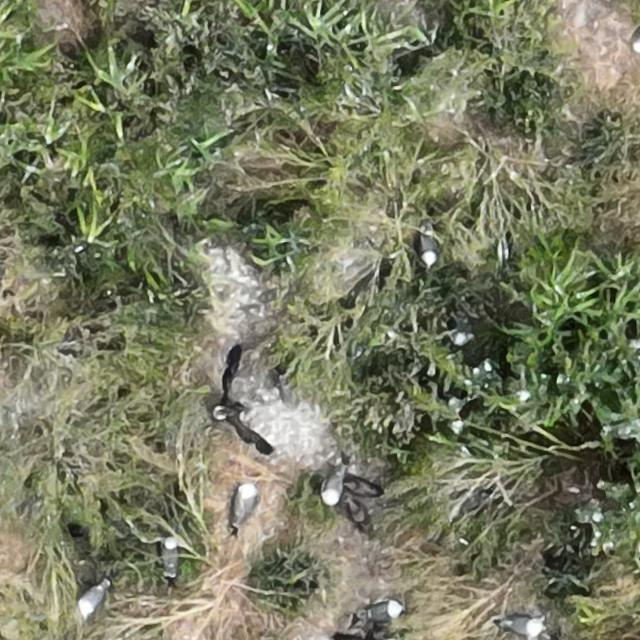umineko: (79, 582, 105, 614), (501, 617, 542, 636), (324, 470, 344, 504), (365, 602, 399, 622), (160, 538, 178, 575), (235, 486, 254, 520), (419, 230, 436, 264)
